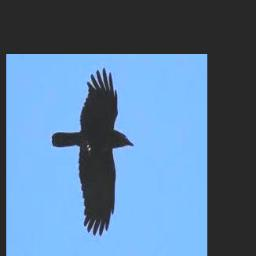Crow: (52, 68, 133, 236)
